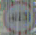Heavy Vehicles: (2, 1, 35, 33)
